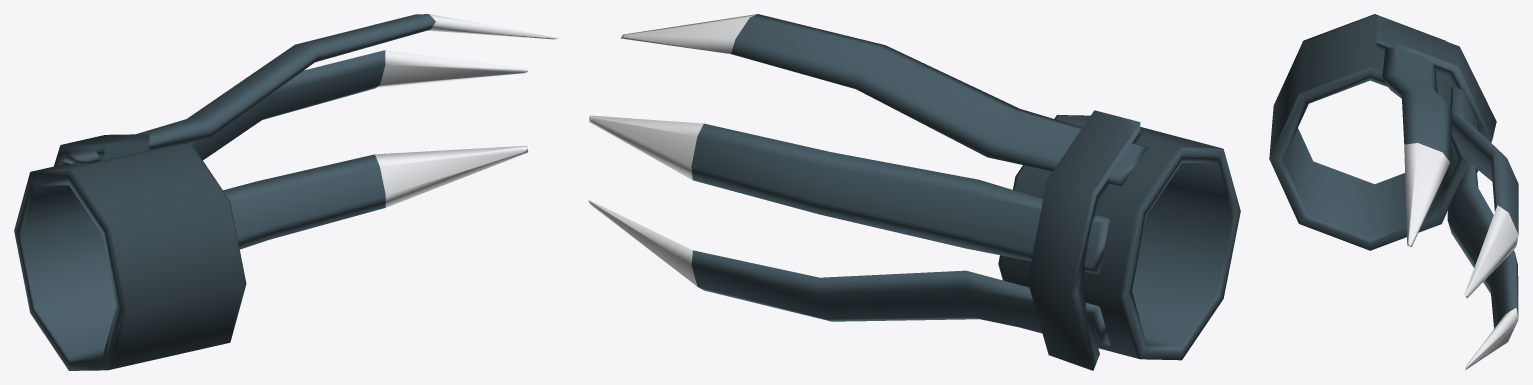
Rendered from claws.fbx.
3 renders of one model, left to right at view 1: azimuth 30°, elevation 25°; view 2: azimuth 150°, elevation 25°; view 3: azimuth 270°, elevation 25°, orthographic. The views are drawn at different scales.
Visible parts, largest first — view 1: claws; view 2: claws; view 3: claws.
Part boxes in pixels (<box>): claws: <box>14,14,559,370</box>; claws: <box>588,14,1240,370</box>; claws: <box>1269,14,1518,370</box>.
Bounding box in the file's own units: 51.96 × 24.03 × 24.06.
